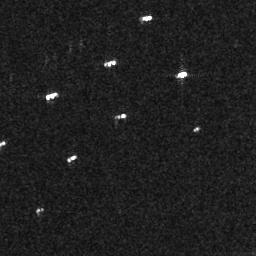ship: (103, 58, 118, 68), (44, 92, 60, 101), (141, 14, 153, 24), (176, 70, 188, 78), (114, 112, 127, 119), (68, 153, 77, 163), (193, 126, 199, 131)
